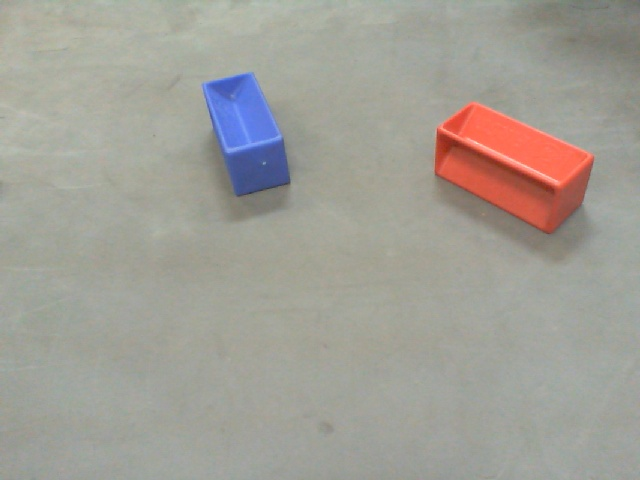BlueSample: (201, 70, 292, 200)
RedSample: (434, 100, 597, 237)
